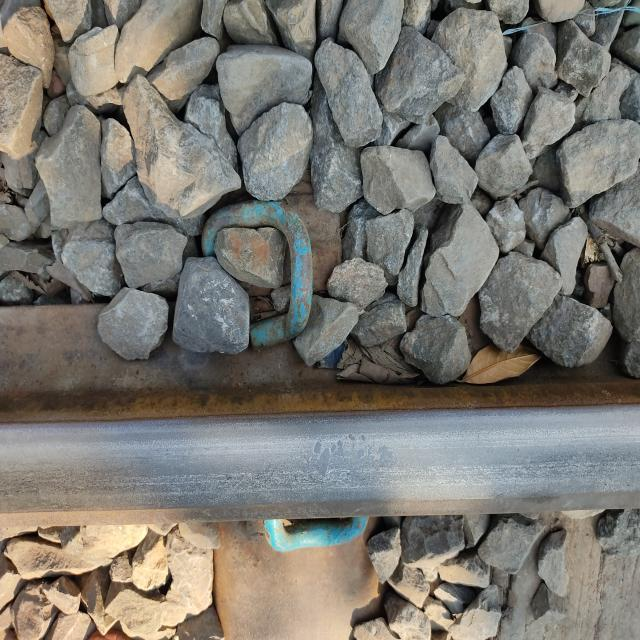Good Fasteners: (202, 195, 341, 349), (263, 517, 368, 552)
